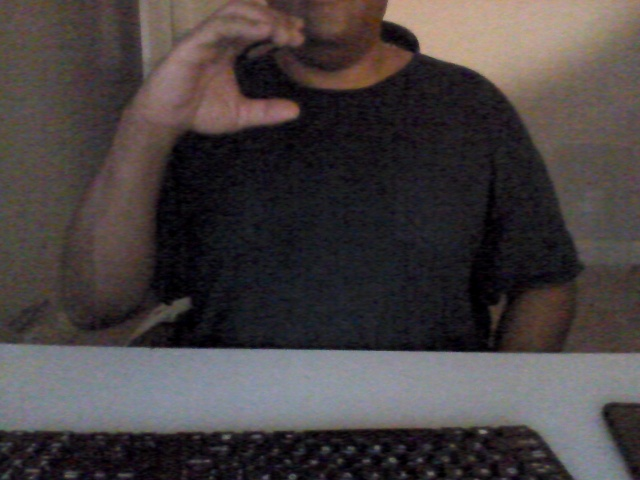drink: (132, 1, 317, 138)
